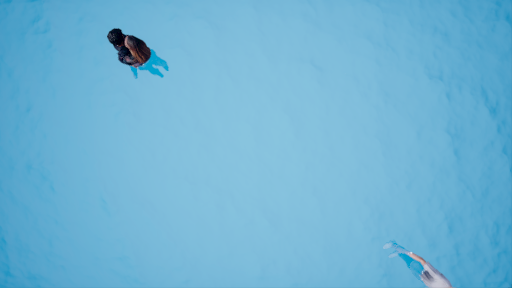person: (378, 233, 461, 288), (104, 21, 172, 80)
